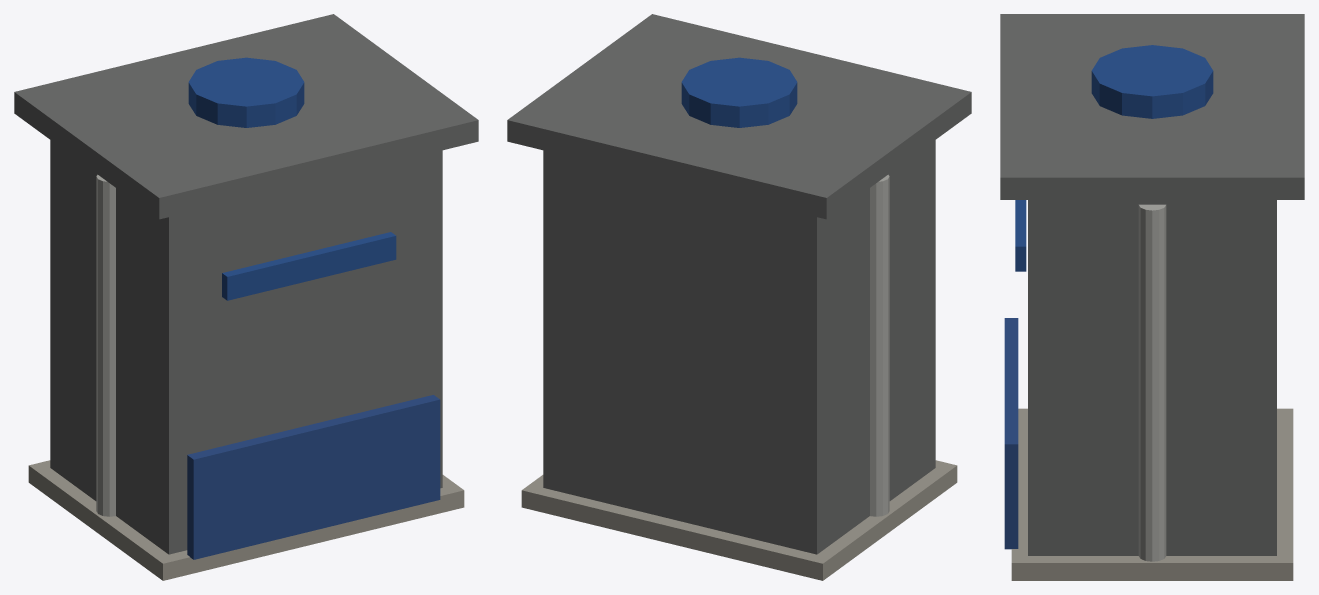
File: bld_commercial_a09_lod1.glb
3 views of the same model, side by side, from view 1: azimuth 30°, elevation 25°; view 2: azimuth 150°, elevation 25°; view 3: azimuth 270°, elevation 25° (orthographic). The views are drawn at different scales.
Parts seen in each view (by area): view 1: body; view 2: body; view 3: body.
Boxes of the visible parts, x1=… form: body: x1=14, y1=14, x2=478, y2=580; body: x1=507, y1=14, x2=971, y2=580; body: x1=1000, y1=14, x2=1304, y2=580.
Bounding box in the file's own units: 7 × 8.65 × 5.5.
